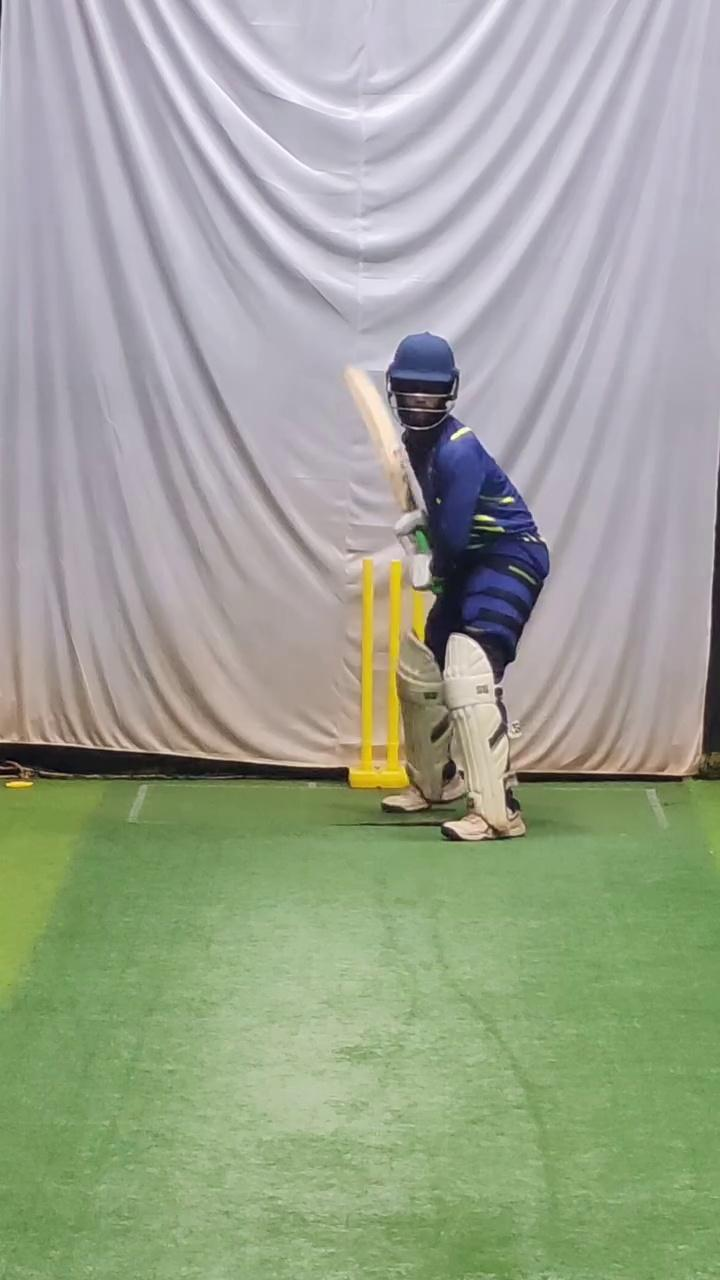bat: (338, 355, 431, 516)
